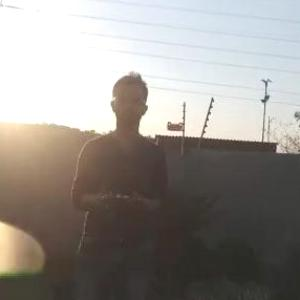follow: (67, 64, 176, 299)
